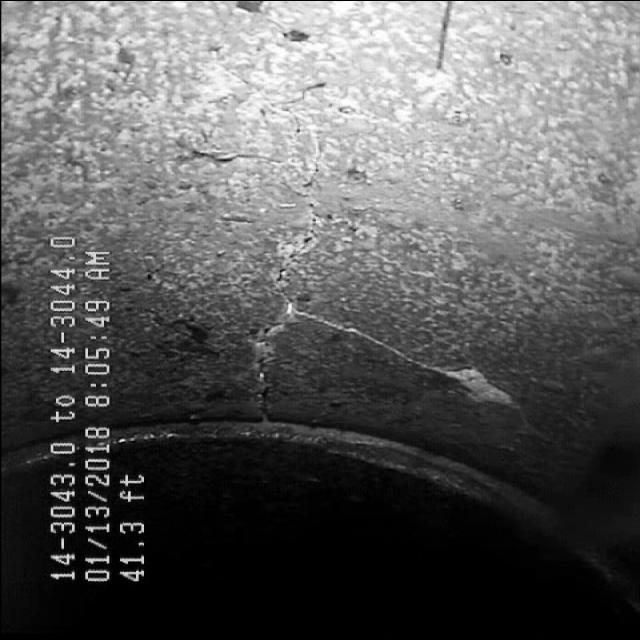Crack: (161, 44, 423, 414)
